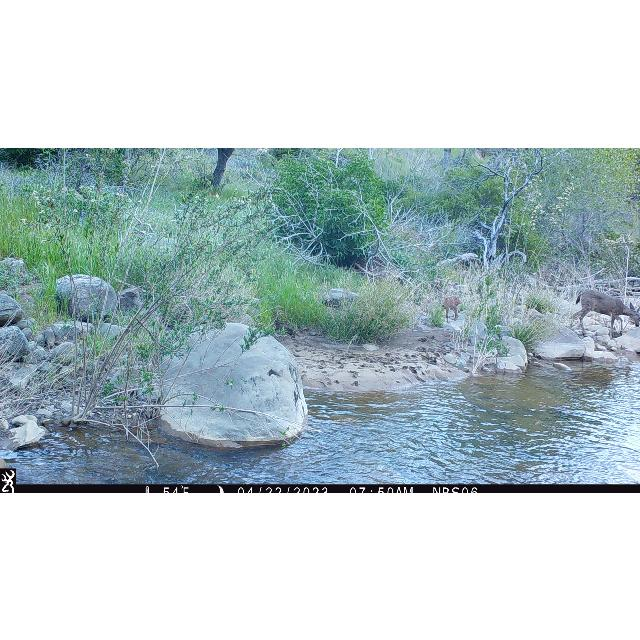animals: (576, 288, 640, 338)
